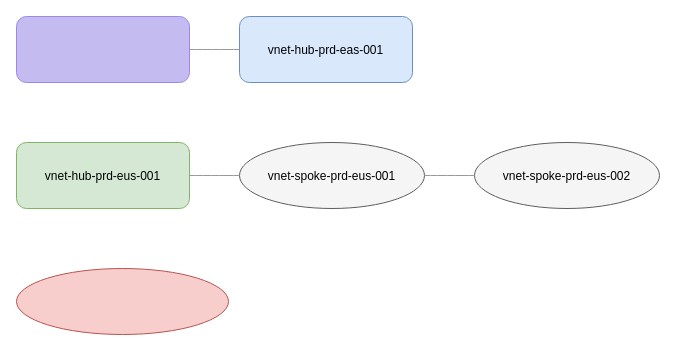
This 676x351 diagram has some shape labels left out. Here are the shapes that lost their labels. From the top down, the centre of each, then its label:
point (103, 49): vnet-hub-prd-sea-001
point (122, 301): vnet-standalone-prd-eas-001
